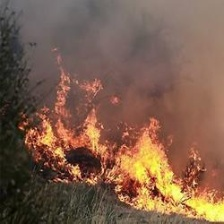fire: (21, 106, 224, 220)
smoke: (26, 7, 173, 102)
